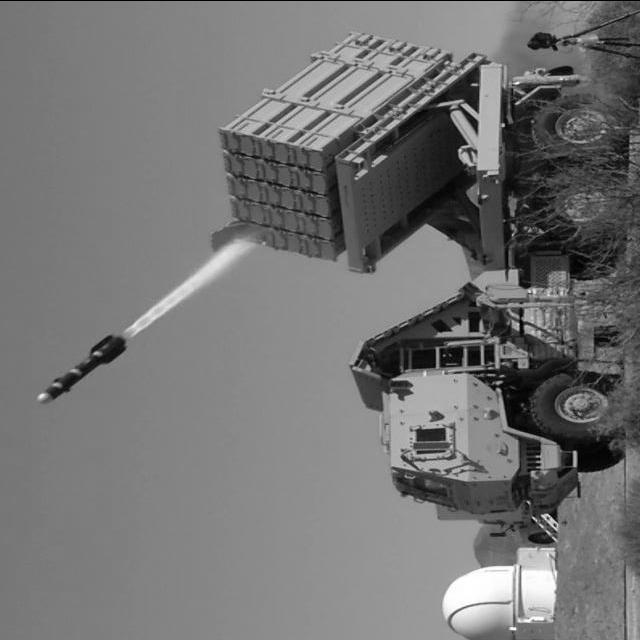missile: (32, 332, 137, 407)
